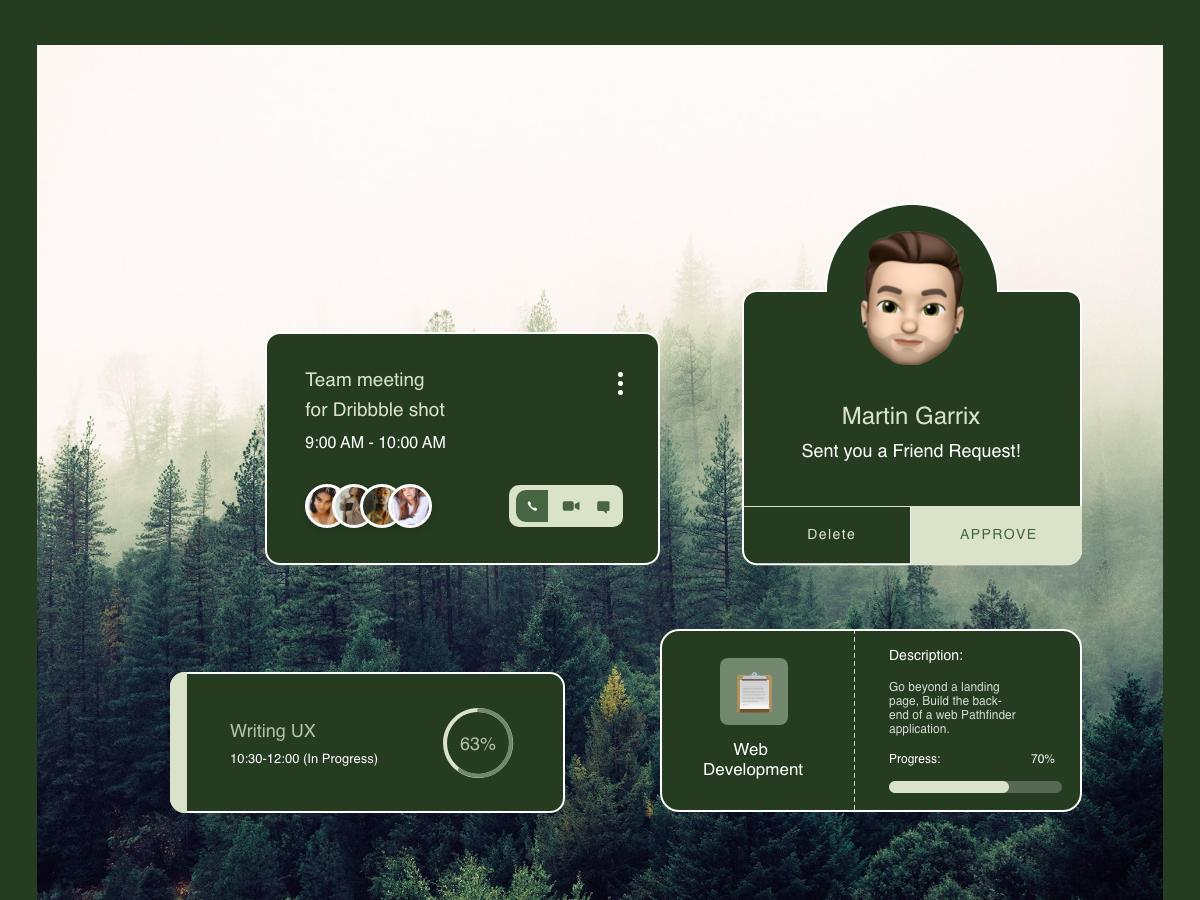button: (910, 505, 1076, 565), (744, 506, 912, 565)
icon: (736, 667, 777, 719), (611, 362, 633, 404), (562, 498, 582, 515), (596, 500, 616, 516), (526, 500, 540, 516)
label: (837, 402, 987, 434), (700, 740, 809, 781), (224, 720, 322, 744)
